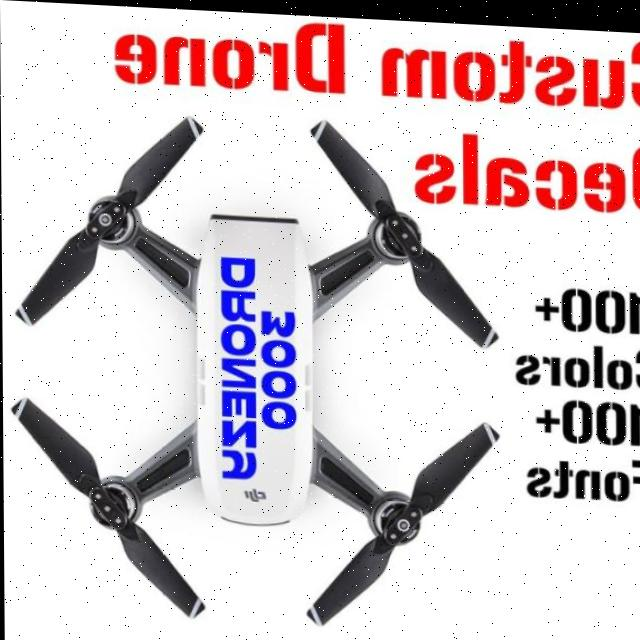drones: (6, 96, 501, 640)
